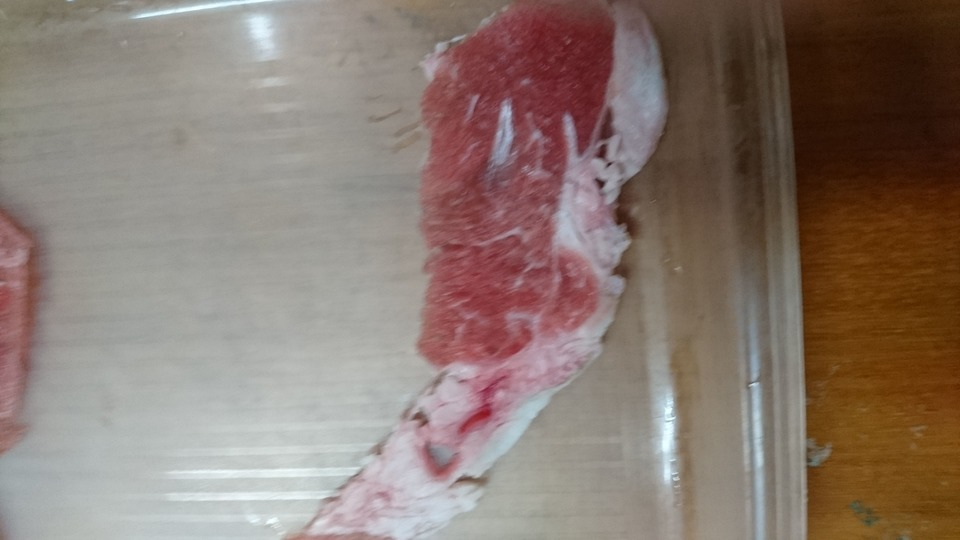restructured meat: (285, 2, 668, 540)
